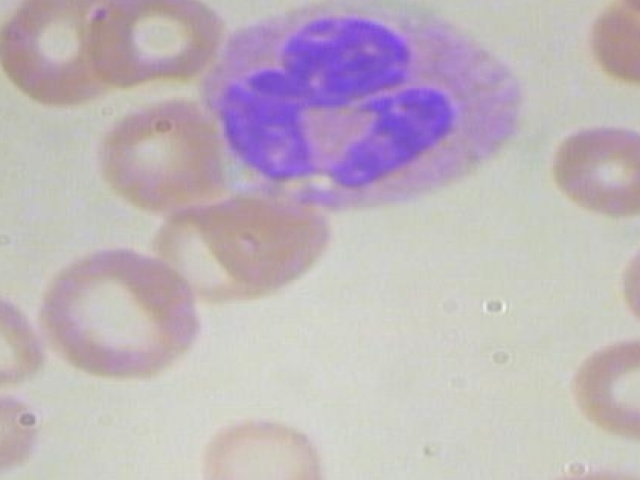RBC: (29, 244, 218, 383), (91, 91, 241, 218), (0, 0, 139, 114), (187, 186, 336, 287), (78, 0, 234, 90), (541, 119, 640, 220), (198, 405, 331, 480), (564, 335, 640, 442), (0, 285, 54, 394), (0, 381, 57, 480), (608, 229, 640, 334)
WBC: (172, 0, 545, 239)
